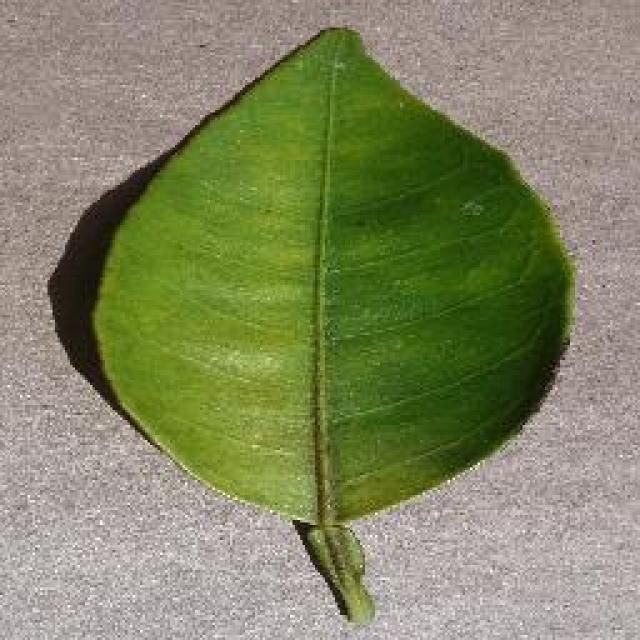Orange_Haunglongbing_Citrus_greening: (128, 96, 522, 476)
